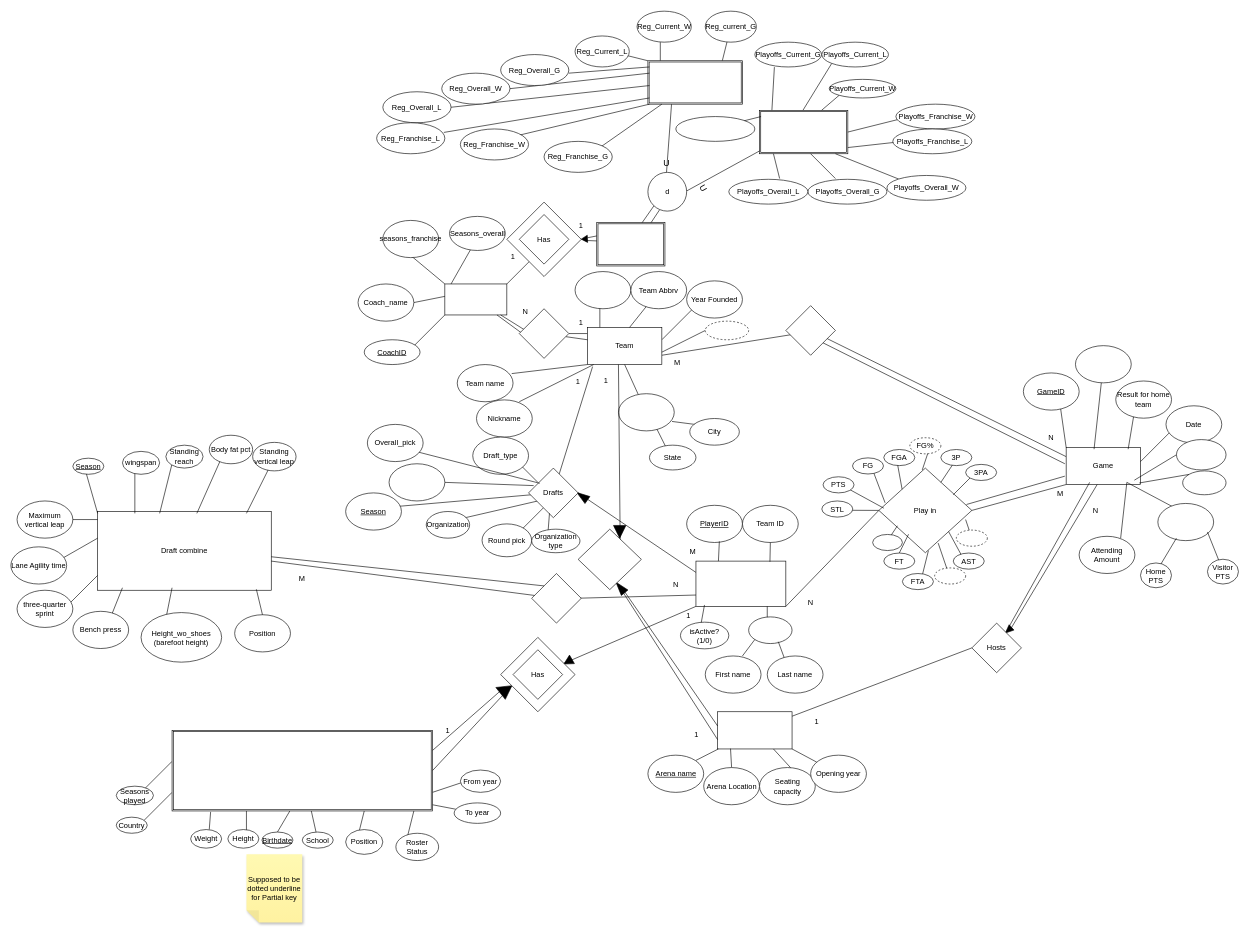
Some shapes in this 1249 by 937 pixel diagram are drawn without their labels. Here are the shapes that lost their labels. From the top down, the centre of each, then its label:
At (x=694, y=82): "RegularGameCoachStats".
At (x=715, y=128): "Playoffs_Franchise_G".
At (x=803, y=132): "PlayoffGameCoachStats".
At (x=630, y=244): "CoachStats".
At (x=475, y=299): "Coach".
At (x=602, y=290): "Team_ID".
At (x=544, y=333): "Instructs".
At (x=727, y=330): "Team Age".
At (x=810, y=330): "Play".
At (x=1103, y=364): "Length".
At (x=646, y=412): "Location".
At (x=1201, y=454): "Visitor Team Name".
At (x=416, y=482): "Round number".
At (x=1204, y=482): "Home Team Name".
At (x=887, y=542): "MP".
At (x=971, y=537): "3P%".
At (x=1185, y=522): "Final score".
At (x=609, y=559): "HasHomeArena".
At (x=950, y=575): "FT%".
At (x=556, y=598): "Attends".
At (x=740, y=583): "Player".
At (x=770, y=630): "Name".
At (x=754, y=730): "Arena".
At (x=301, y=770): "Player information".
